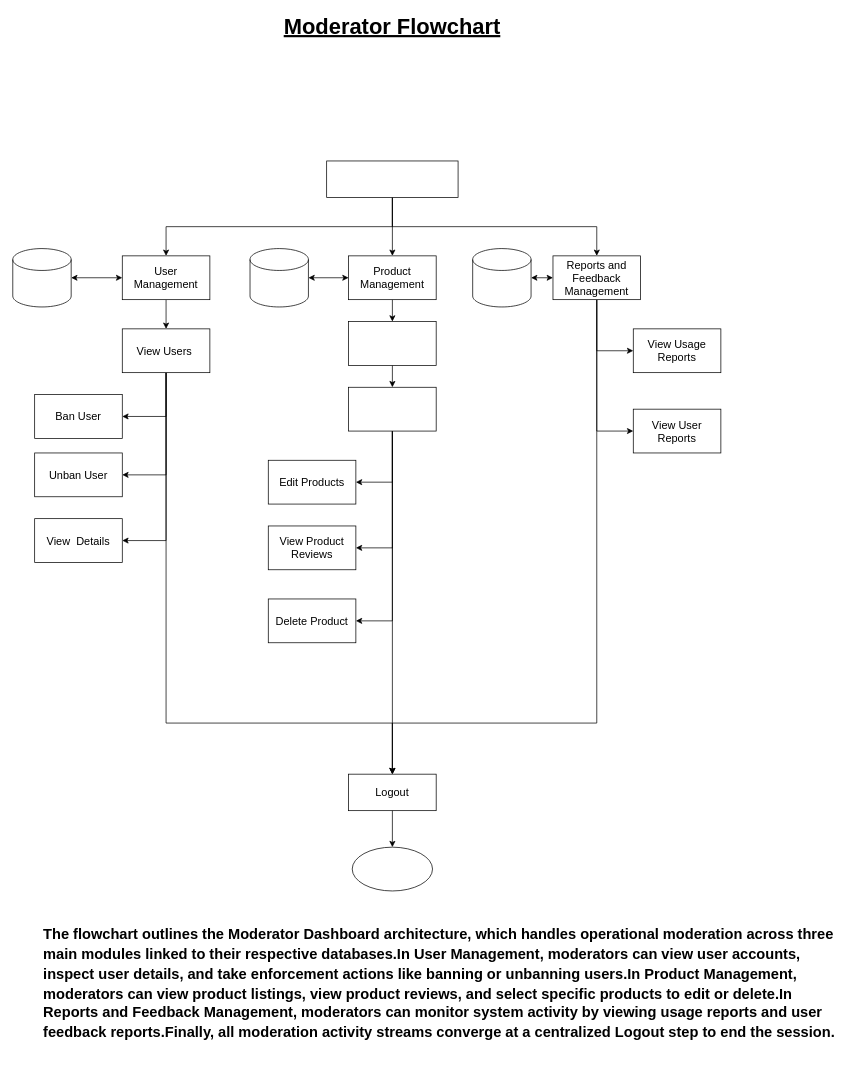
Some shapes in this 850 by 1078 pixel diagram are drawn without their labels. The shapes that lost their labels are listed below. From the top down, each one's box as (x1, y1, x2, y2) in pixels, then its label:
(326, 160, 458, 197): Moderator Dashboard
(12, 248, 71, 307): User DB
(249, 248, 308, 307): Product DB
(472, 248, 531, 307): Report DB
(348, 321, 436, 365): View Products
(348, 387, 436, 431): Select Product
(351, 846, 433, 891): End
